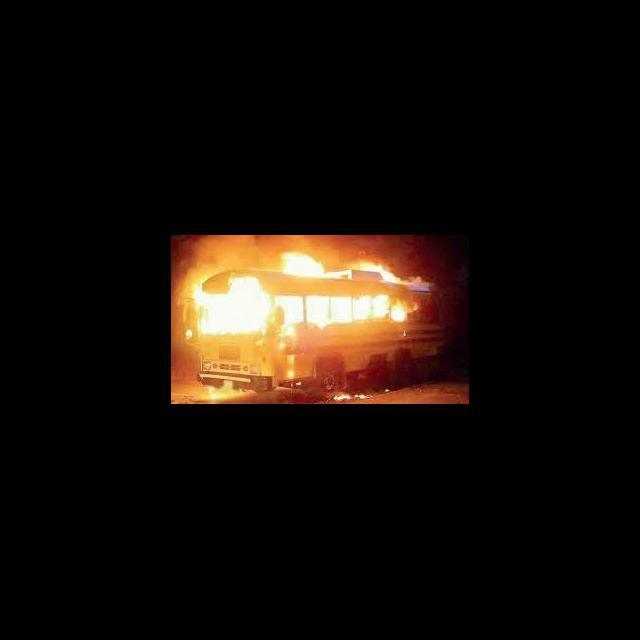Fire: (192, 270, 274, 338), (280, 250, 324, 278), (204, 381, 242, 402), (306, 294, 330, 326), (274, 296, 302, 322), (331, 298, 352, 323), (354, 297, 372, 321), (374, 295, 388, 320), (391, 302, 407, 322), (333, 392, 350, 402), (353, 392, 370, 401), (384, 386, 390, 394)
